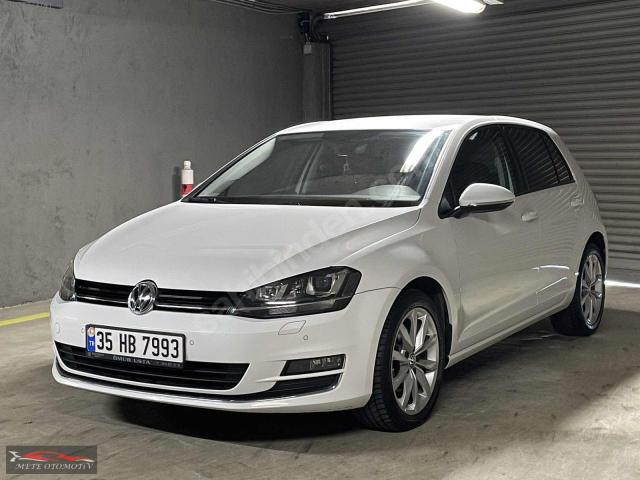plaka: (86, 325, 184, 366)
